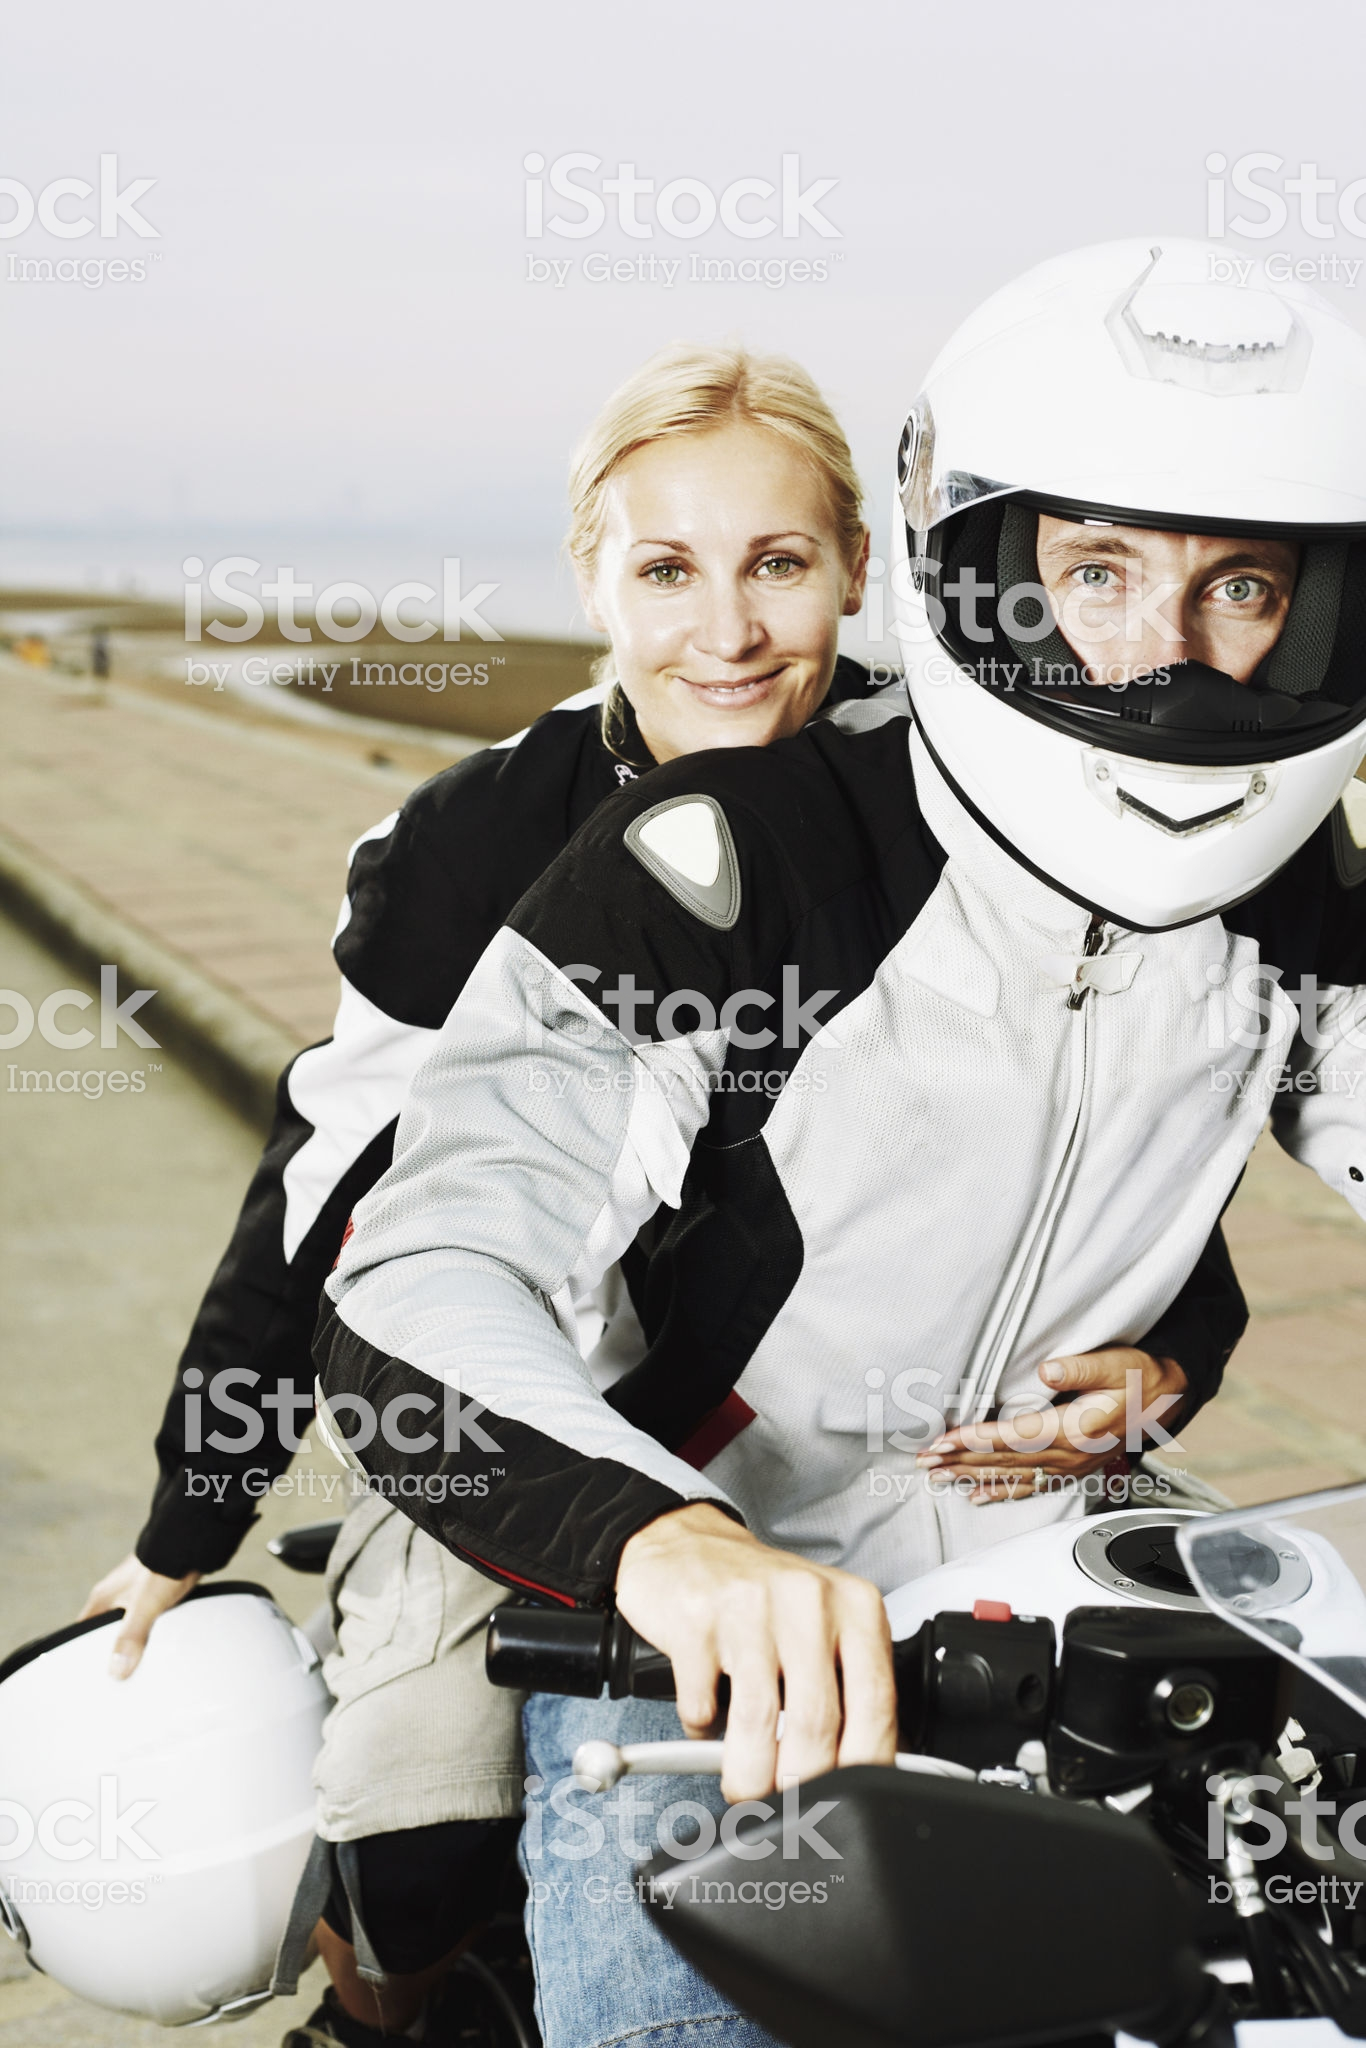helmet: (883, 264, 1366, 856)
